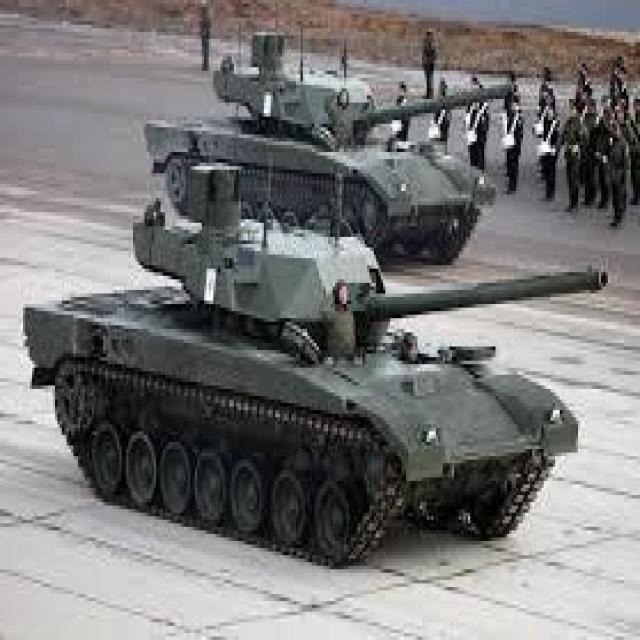Tanks: (24, 223, 621, 562), (155, 34, 494, 214)
